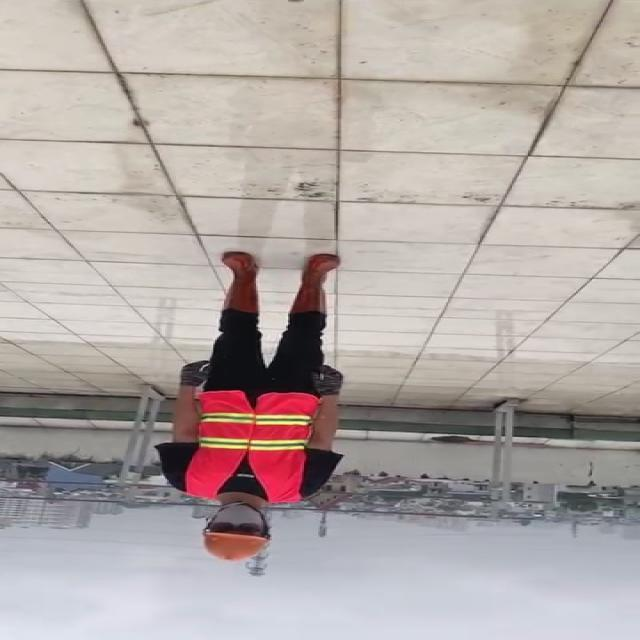gloves: (178, 358, 220, 393), (310, 362, 348, 398)
